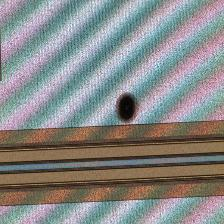PO CONTAMINATION: (108, 89, 148, 129)
